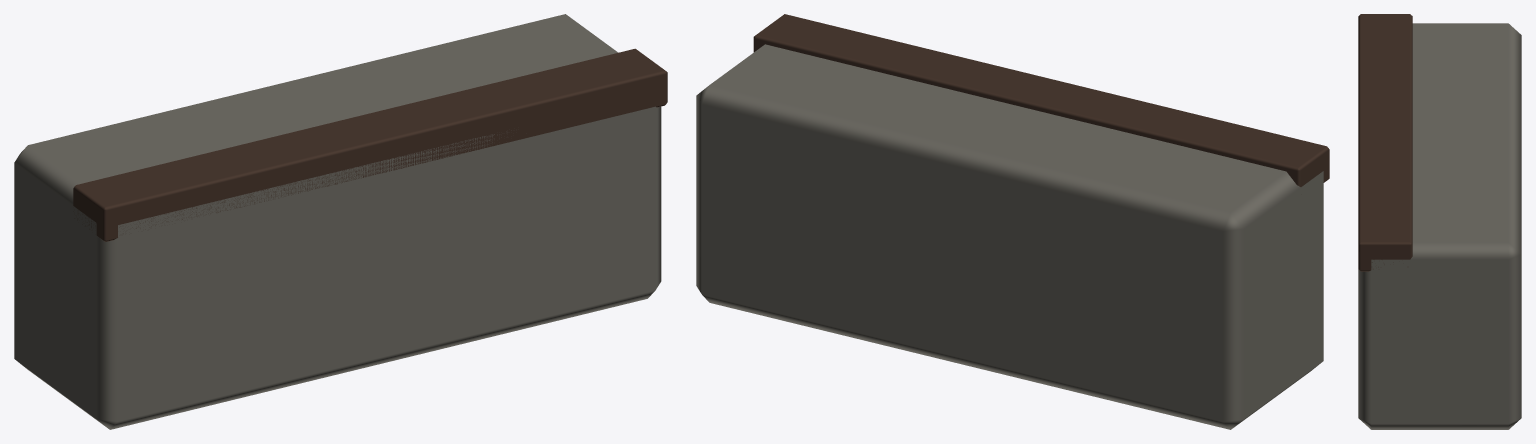
Rendered from village-stair-riser.de5ce6d8.glb.
3 renders of one model, left to right at view 1: azimuth 30°, elevation 25°; view 2: azimuth 150°, elevation 25°; view 3: azimuth 270°, elevation 25°, orthographic. The views are drawn at different scales.
Visible parts, largest first — view 1: body; view 2: body; view 3: body.
Part boxes in pixels (bbox=[...]): body: bbox=[14, 14, 667, 429]; body: bbox=[696, 14, 1329, 429]; body: bbox=[1358, 14, 1521, 429].
Bounding box in the file's own units: 1 × 0.39 × 0.3.
